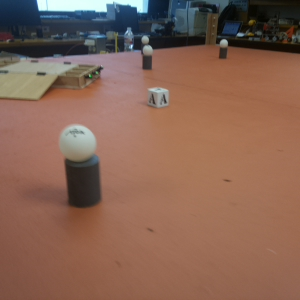obstacle: (58, 124, 107, 203), (138, 44, 158, 72), (219, 37, 229, 58)
side: (58, 64, 104, 84)
slope: (1, 67, 52, 95)
